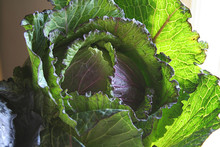cabbage: (19, 1, 201, 147)
